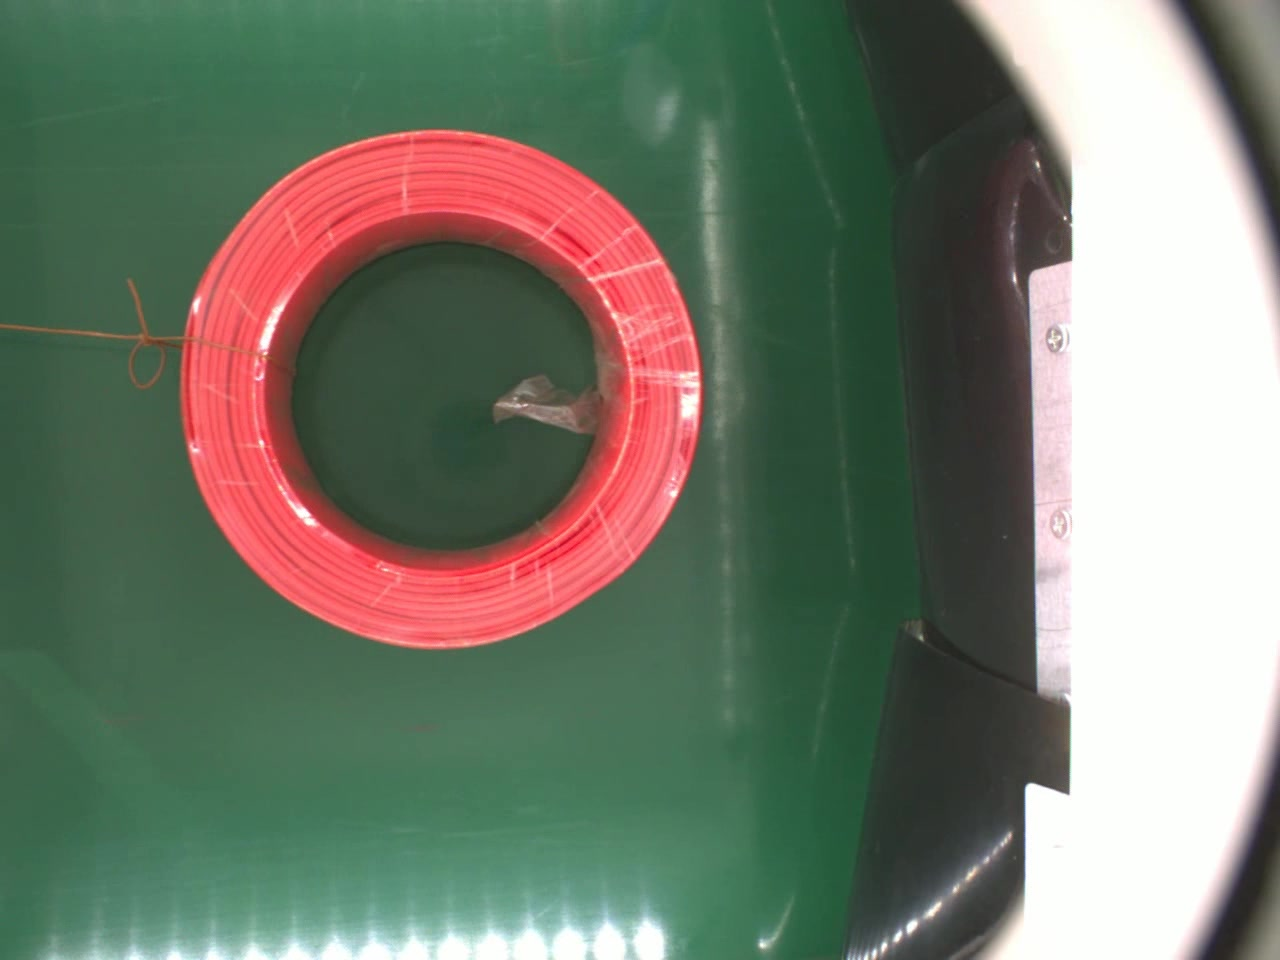red: (177, 126, 705, 654)
